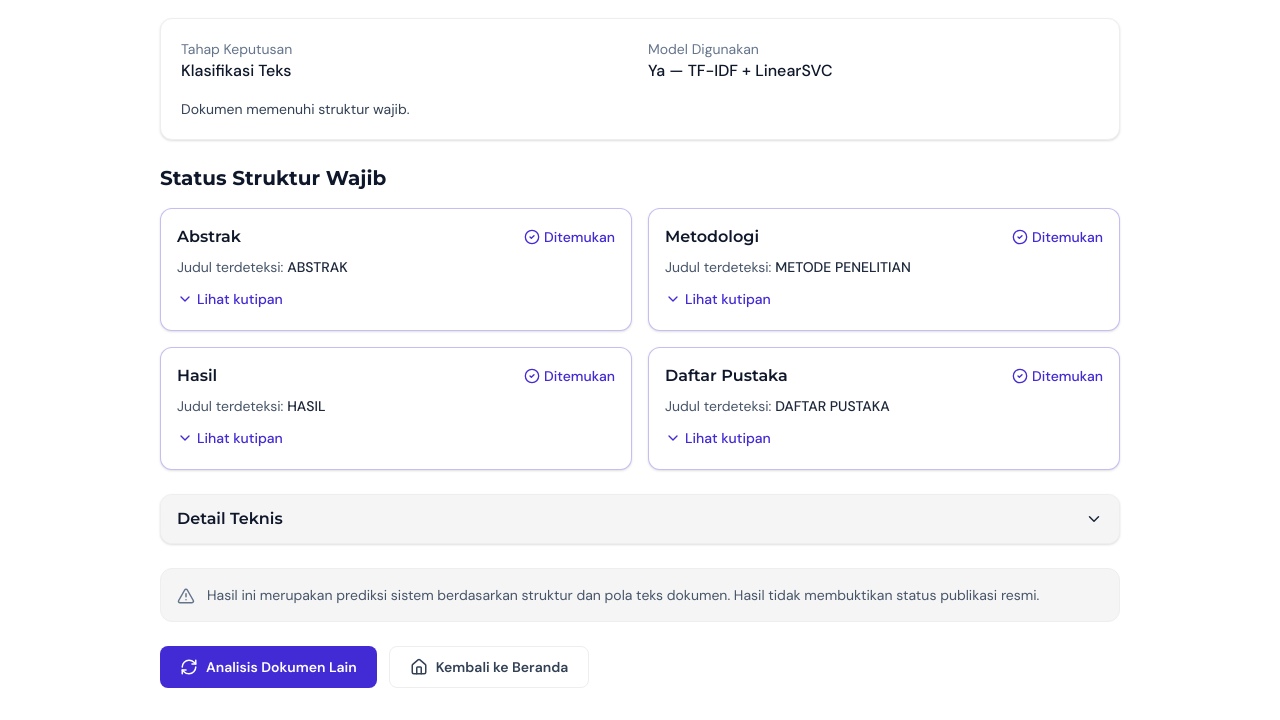
Test case: ResultPage › shows the decision-margin disclaimer inside technical details
(page scrolled)
What coordinates should you click on to do the following:
click the button "Detail Teknis"
I would click on:
 (230, 518)
Its box is [161,495,1119,543].
(page scrolled)
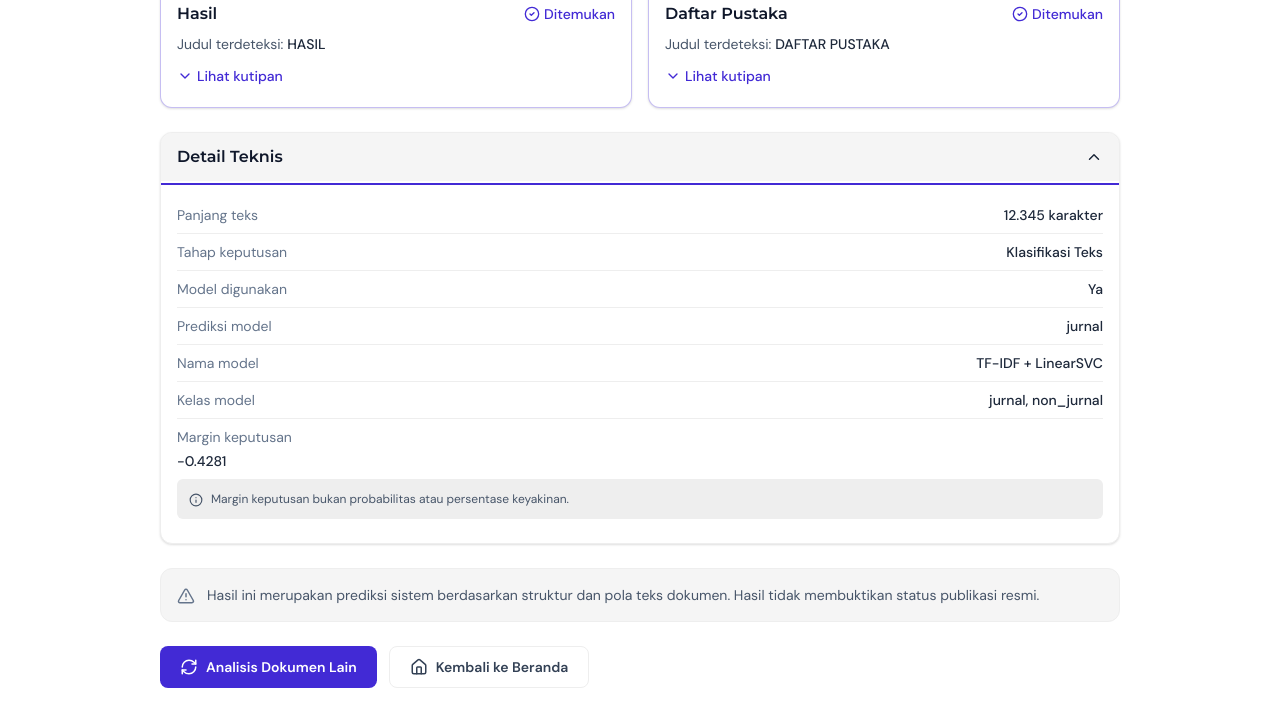
Expected: the text "bukan probabilitas atau persentase keyakinan" is shown, [211,491,569,507]
